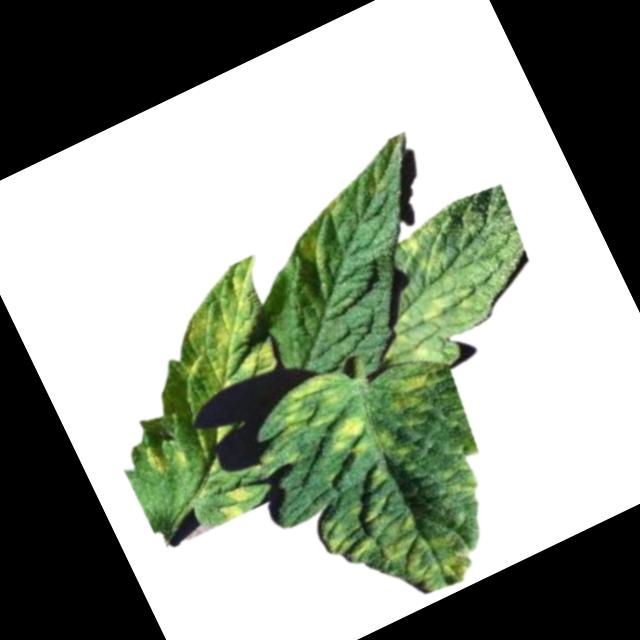Leaf_Mold: (303, 447, 476, 626), (149, 253, 300, 405), (367, 271, 504, 381), (267, 364, 356, 439), (394, 210, 465, 279), (376, 357, 448, 423), (323, 410, 378, 465), (293, 229, 339, 278), (214, 479, 261, 523), (142, 441, 175, 481), (321, 191, 353, 218)
